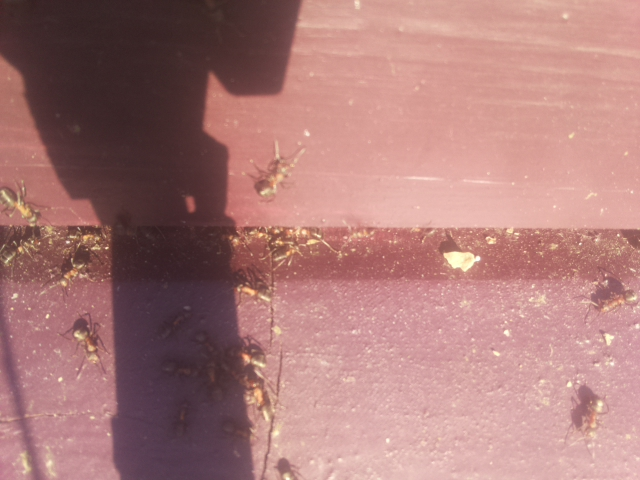ant: (247, 137, 313, 206), (66, 312, 112, 382), (0, 173, 48, 233), (53, 243, 96, 294), (240, 377, 280, 423), (155, 303, 196, 343), (591, 285, 640, 316), (579, 393, 607, 441), (227, 279, 277, 304), (202, 358, 225, 407), (169, 397, 193, 439), (235, 346, 271, 372), (161, 357, 199, 377), (274, 452, 301, 480)
